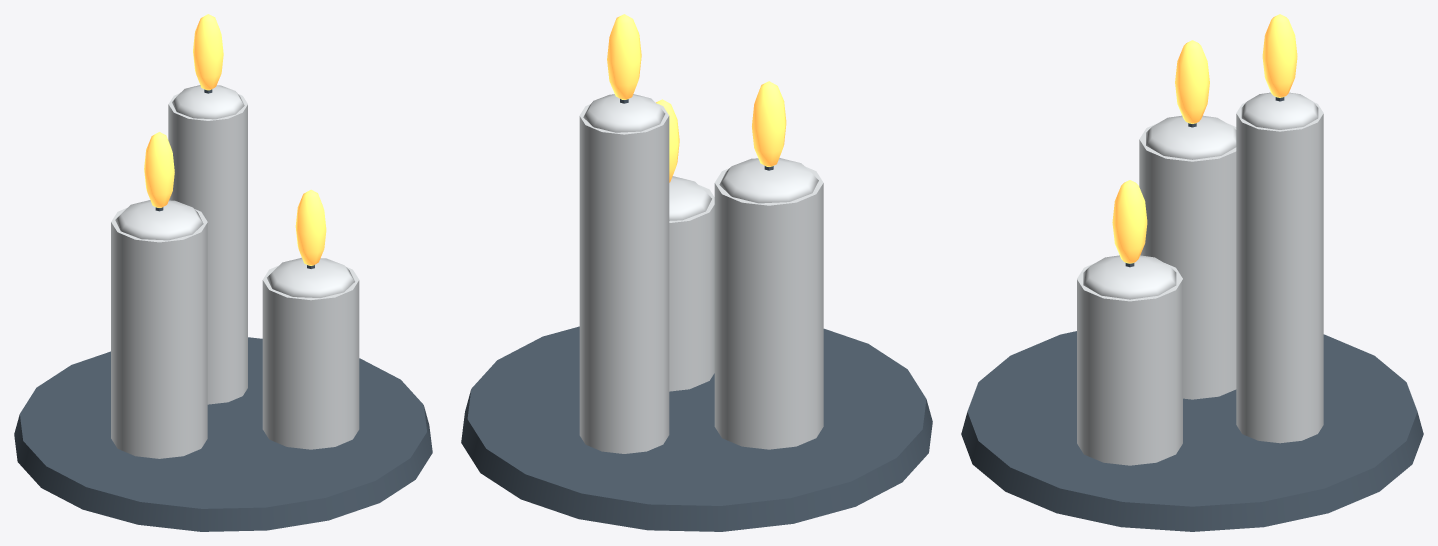
The model's file is alpine-snow-village-winter-candle-trio-89889715__19831.glb.
3 views of the same model, side by side, from view 1: azimuth 30°, elevation 25°; view 2: azimuth 150°, elevation 25°; view 3: azimuth 270°, elevation 25° (orthographic). The views are drawn at different scales.
Parts seen in each view (by area): view 1: winter-candle-trio-snow, winter-candle-trio-iron, winter-candle-trio-amber; view 2: winter-candle-trio-snow, winter-candle-trio-iron, winter-candle-trio-amber; view 3: winter-candle-trio-snow, winter-candle-trio-iron, winter-candle-trio-amber.
Part boxes in pixels (x1,y1,x2,y2): winter-candle-trio-snow: [111, 85, 359, 458]; winter-candle-trio-iron: [14, 89, 432, 531]; winter-candle-trio-amber: [144, 14, 326, 265]; winter-candle-trio-snow: [579, 94, 823, 453]; winter-candle-trio-iron: [461, 99, 932, 531]; winter-candle-trio-amber: [607, 14, 786, 182]; winter-candle-trio-snow: [1077, 92, 1323, 465]; winter-candle-trio-iron: [961, 97, 1423, 531]; winter-candle-trio-amber: [1112, 14, 1297, 263].
Size of the model in its own units: 0.74 by 0.765 by 0.74.
